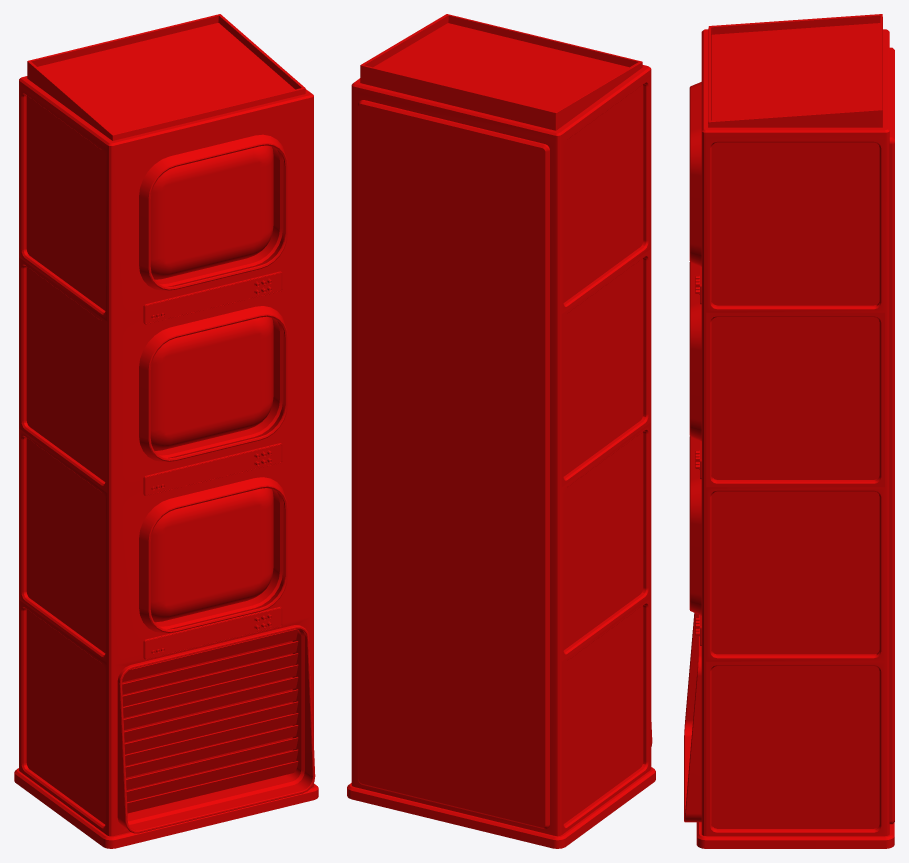
File: Equipment_12.fbx
3 renders of one model, left to right at view 1: azimuth 30°, elevation 25°; view 2: azimuth 150°, elevation 25°; view 3: azimuth 270°, elevation 25°, orthographic.
Parts seen in each view (by area): view 1: L3:pCube109; view 2: L3:pCube109; view 3: L3:pCube109.
Part boxes in pixels (x1,y1,x2,y2): L3:pCube109: (14, 14, 318, 848); L3:pCube109: (347, 14, 655, 848); L3:pCube109: (684, 14, 894, 848).
Bounding box in the file's own units: 72.85 × 234 × 60.9.
